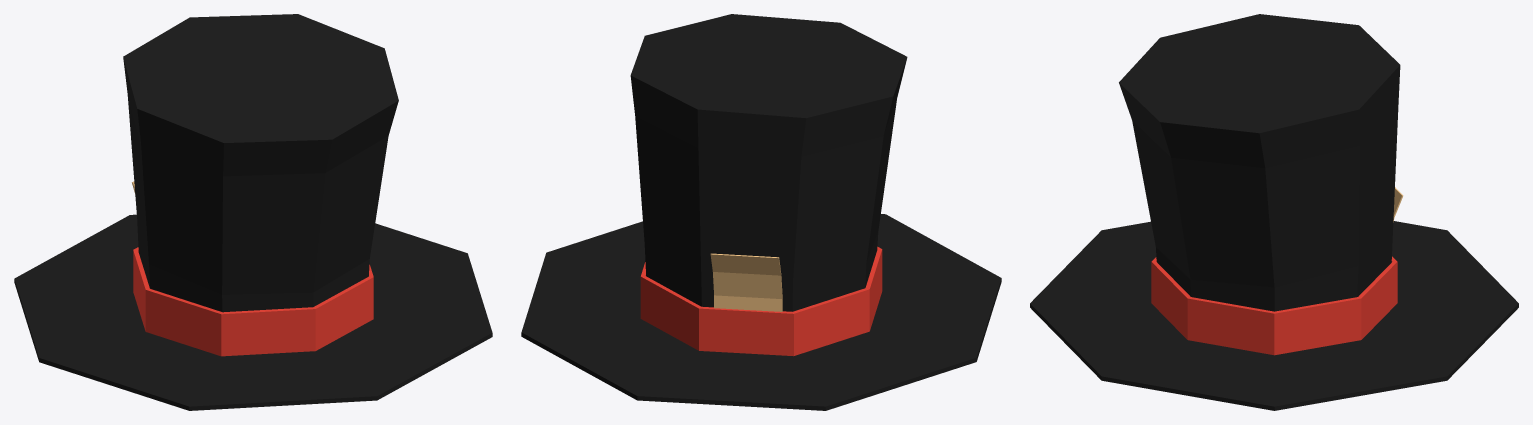
File: tophat.glb
3 renders of one model, left to right at view 1: azimuth 30°, elevation 25°; view 2: azimuth 150°, elevation 25°; view 3: azimuth 270°, elevation 25°, orthographic.
Parts seen in each view (by area): view 1: Top_hat_01_Circle.003; view 2: Top_hat_01_Circle.003; view 3: Top_hat_01_Circle.003.
Part boxes in pixels (<box>): Top_hat_01_Circle.003: <box>14,14,492,410</box>; Top_hat_01_Circle.003: <box>521,14,1001,410</box>; Top_hat_01_Circle.003: <box>1030,14,1518,410</box>.
Size of the model in its own units: 18.6 by 10.2 by 18.6.
